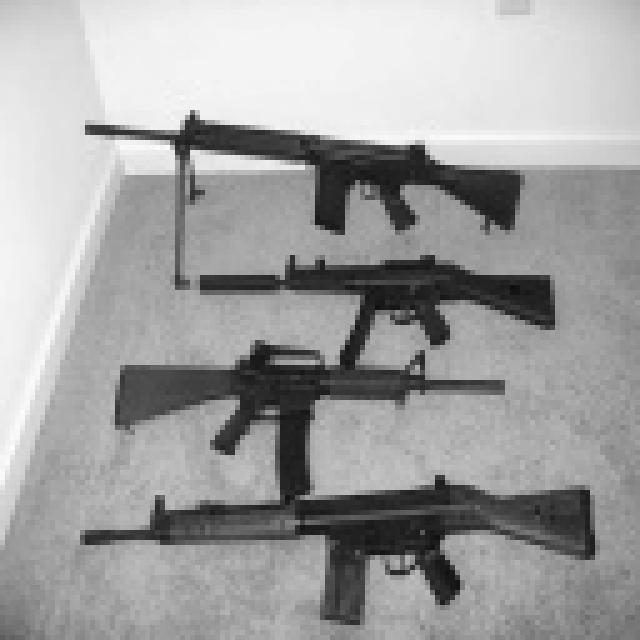Rifle: (27, 453, 618, 639), (70, 100, 553, 294), (59, 342, 515, 496), (162, 247, 585, 369)
